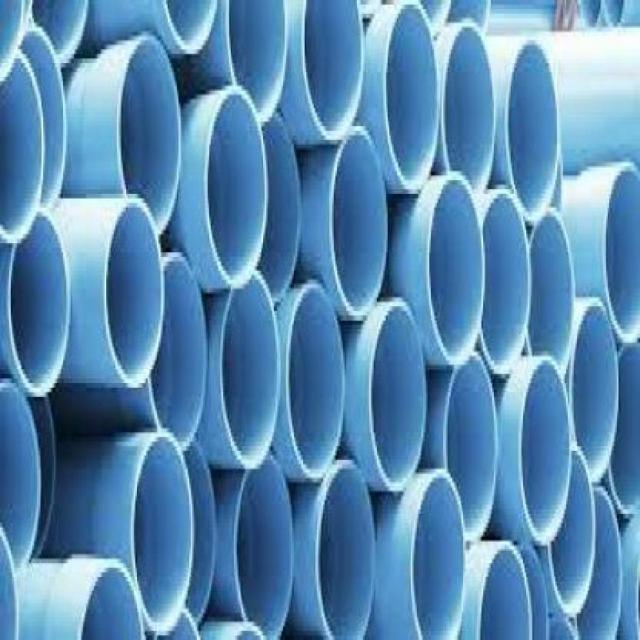pipe: (52, 192, 169, 389), (389, 159, 481, 359), (191, 67, 272, 289), (329, 105, 398, 321), (486, 359, 573, 529), (130, 419, 198, 632), (284, 278, 347, 492), (506, 40, 568, 216)
